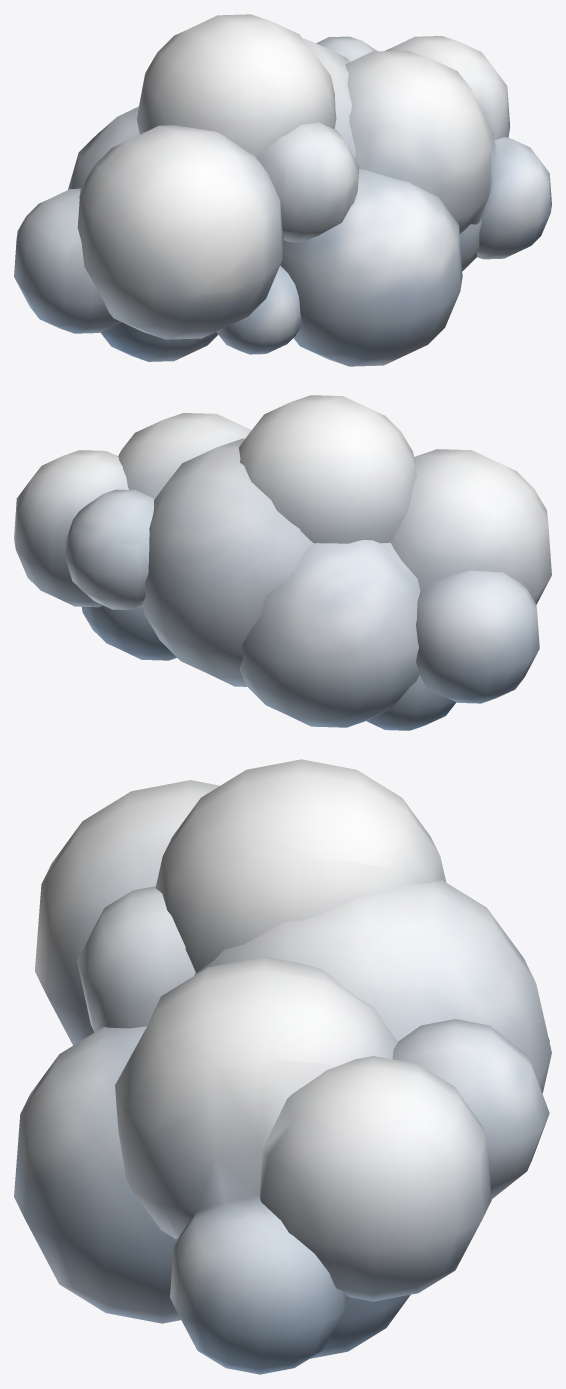
The model's file is Clouds_GD.FBX.
3 renders of one model, top to bottom at view 1: azimuth 30°, elevation 25°; view 2: azimuth 150°, elevation 25°; view 3: azimuth 270°, elevation 25°, orthographic. The views are drawn at different scales.
Visible parts, largest first — view 1: Box010; view 2: Box010; view 3: Box010.
Part boxes in pixels (left/top/right/bottom): Box010: left=14, top=14, right=551, bottom=366; Box010: left=14, top=395, right=551, bottom=730; Box010: left=14, top=759, right=551, bottom=1374.
Bounding box in the file's own units: 543 × 329 × 335.
